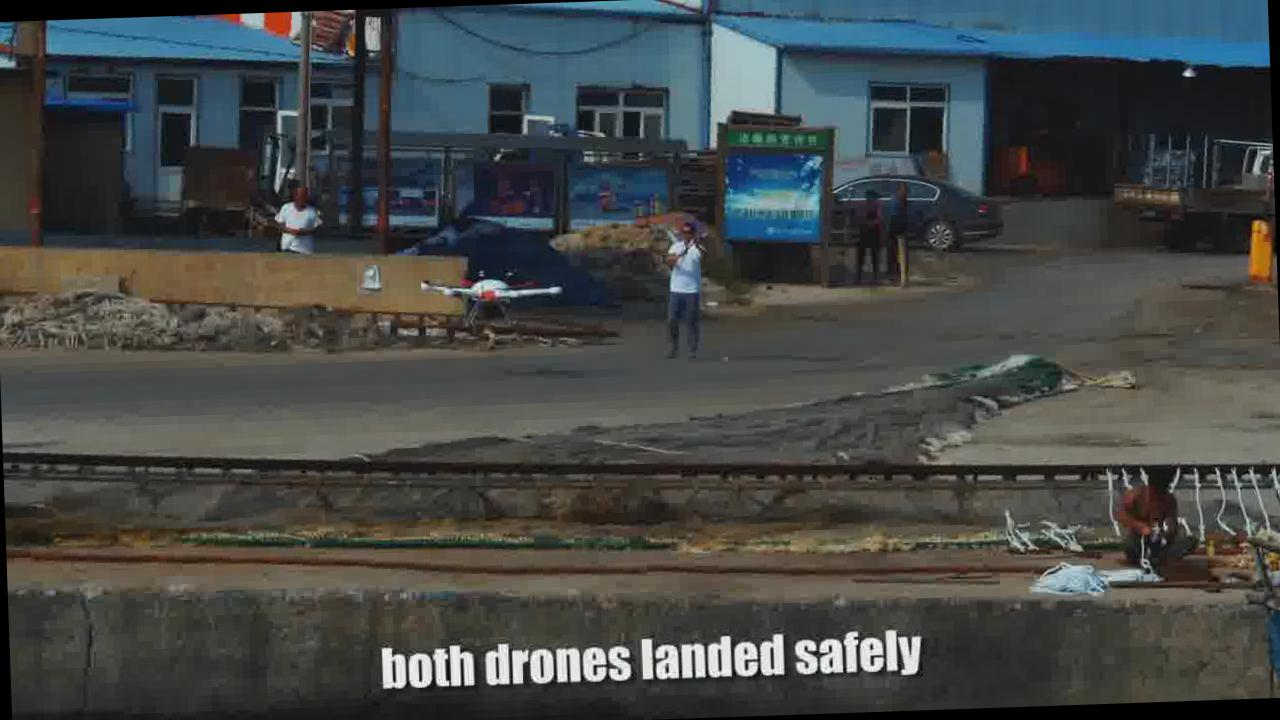drone: (412, 267, 570, 326)
